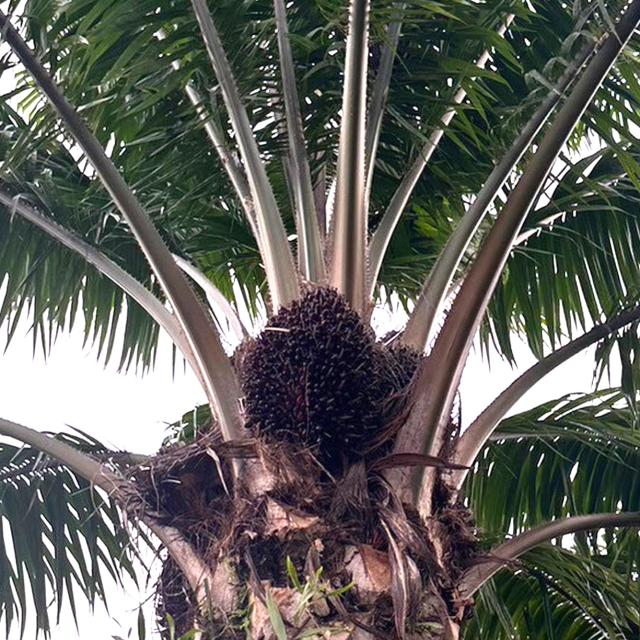ripe: (240, 284, 398, 436)
